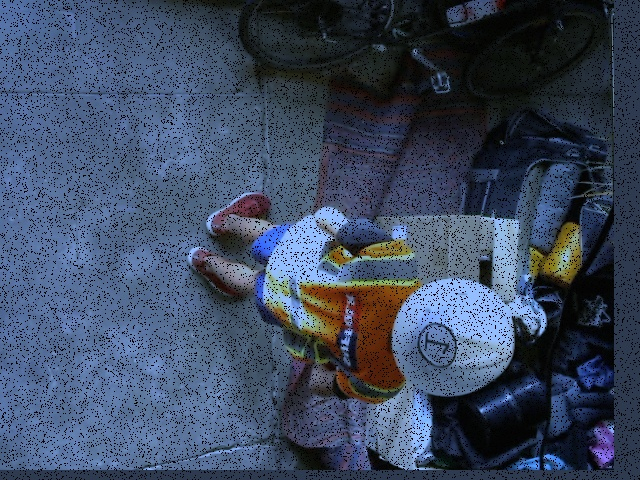one: (417, 321, 455, 366)
